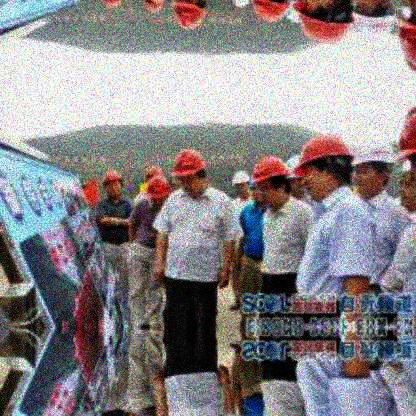helmet: (292, 135, 356, 200), (292, 1, 355, 47), (352, 139, 396, 198), (251, 156, 290, 206), (173, 147, 208, 195), (353, 1, 397, 38), (145, 174, 172, 208), (100, 168, 126, 196), (229, 171, 252, 201)
